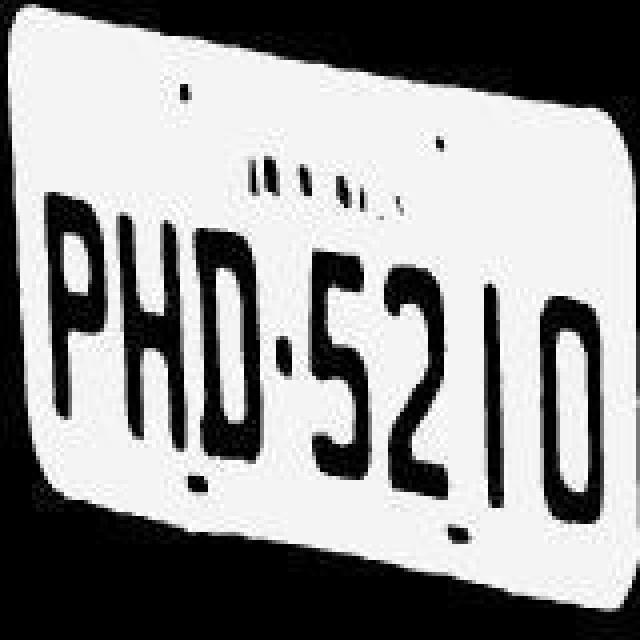1: (466, 254, 510, 522)
2: (372, 252, 444, 516)
5: (306, 236, 374, 492)
D: (198, 212, 266, 476)
H: (116, 200, 188, 456)
O: (524, 284, 612, 532)
P: (40, 184, 120, 440)
